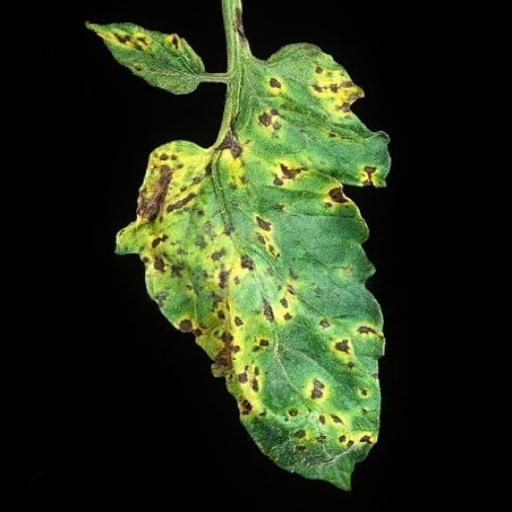Septoria: (110, 42, 390, 492), (85, 16, 208, 96)
